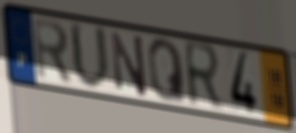4: (228, 48, 260, 119)
N: (109, 29, 149, 100)
Q: (146, 37, 189, 106)
R: (182, 38, 225, 115), (31, 15, 75, 88)
U: (67, 18, 112, 94)
